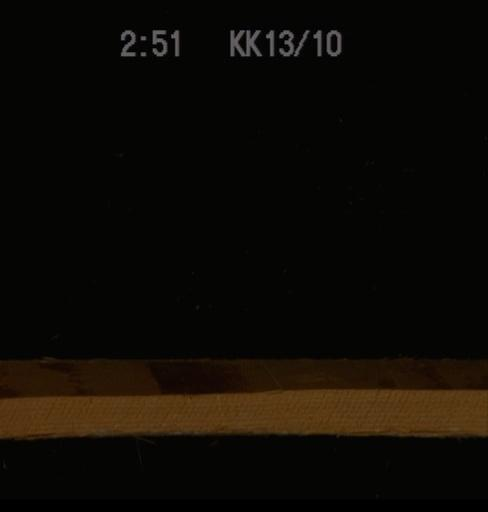wave: (0, 358, 486, 396)
